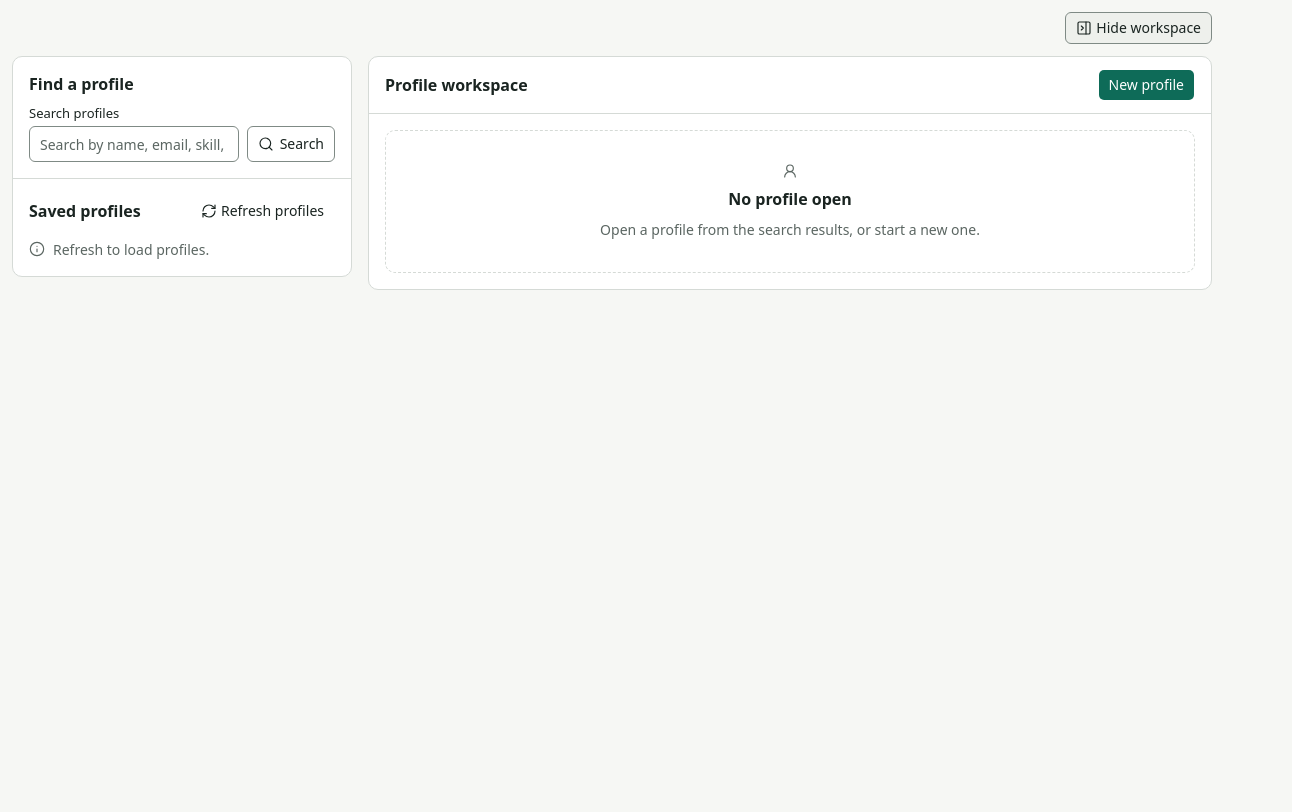
it: profile list › opens a saved profile when its row is clicked
Step 1. Click the button with test id "profileRefreshButton" → (262, 211), box [190,195,335,227]
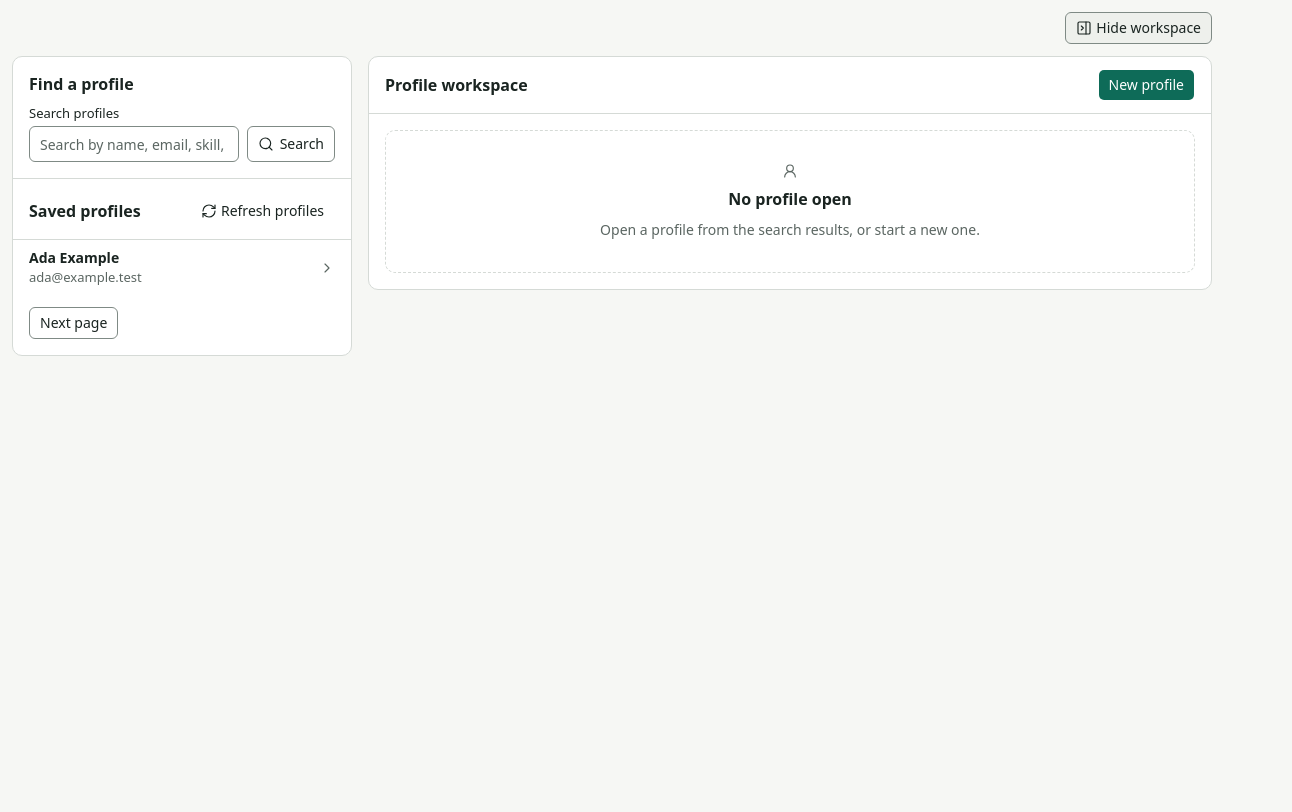
Step 2. Click the button "Ada Example ada@example.test" → (74, 258), box [13,240,351,295]
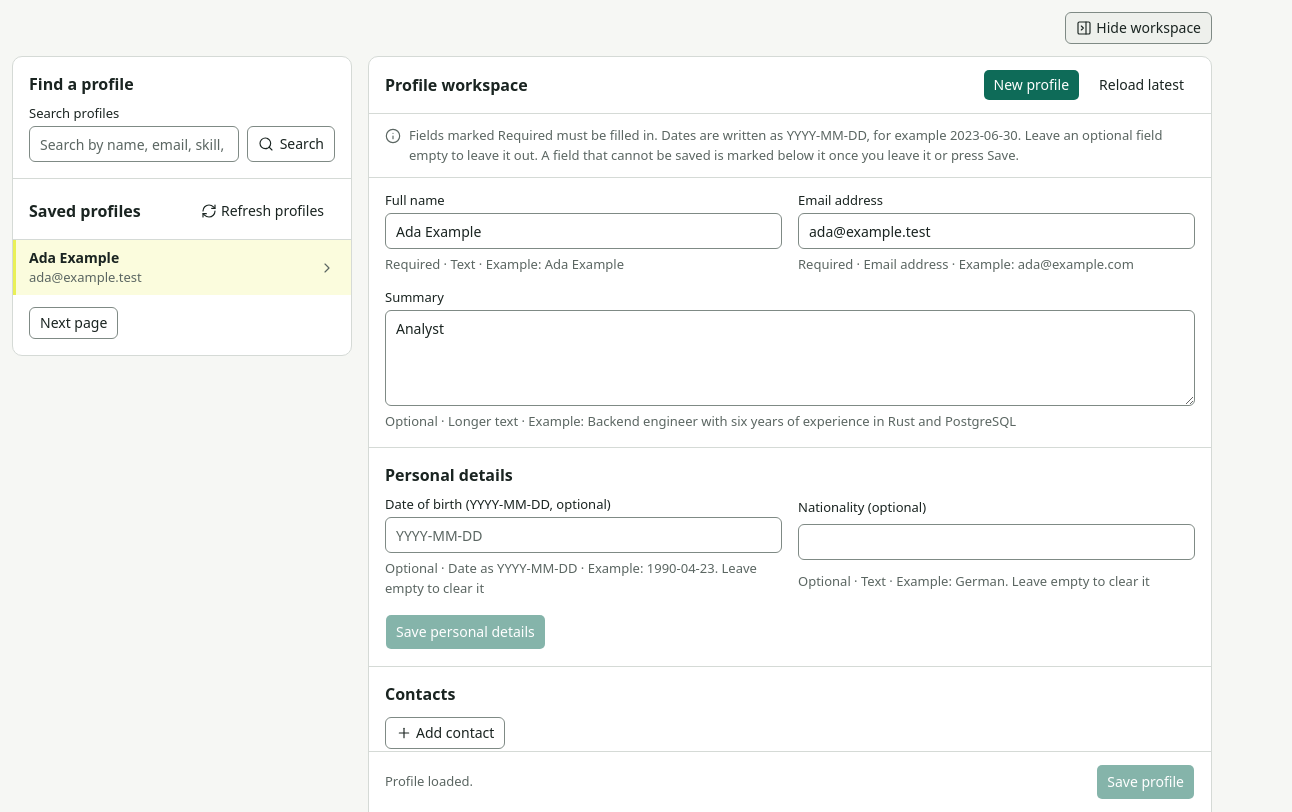
Expected: the text "Profile loaded." is shown, [385,772,473,790]
